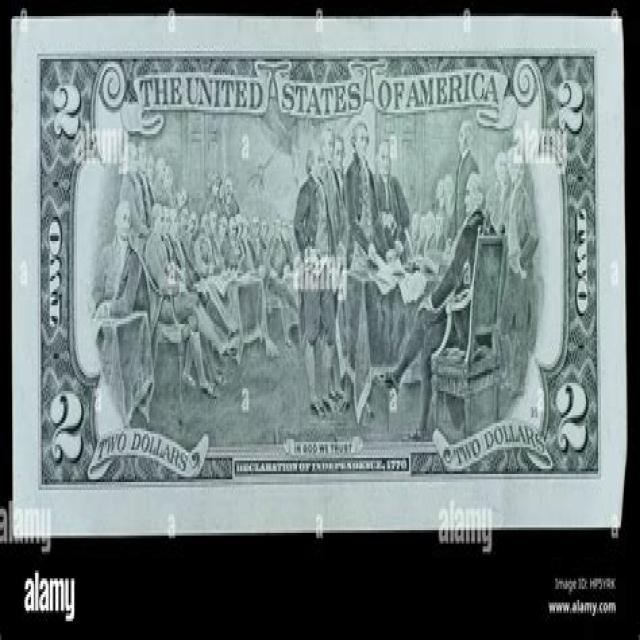Two: (12, 18, 625, 526)
